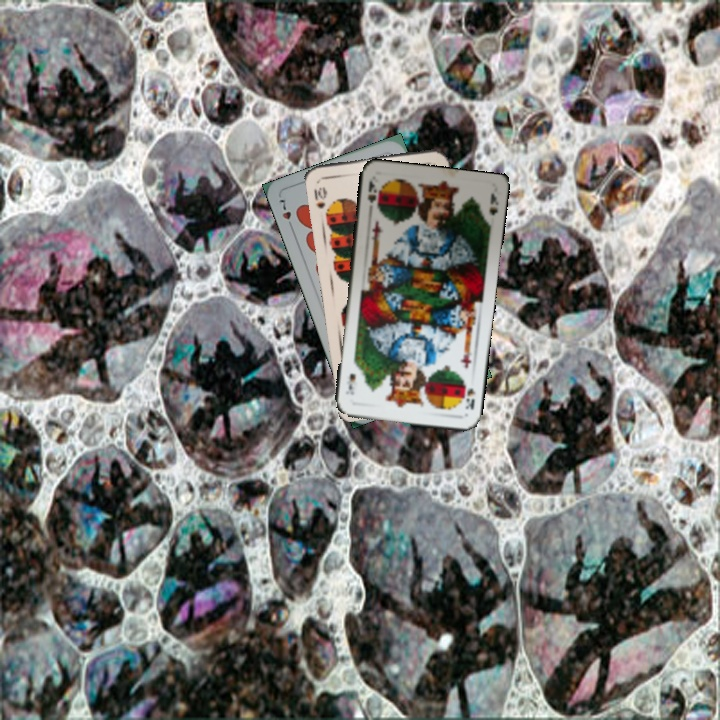H7: (275, 195, 296, 233)
S10: (310, 183, 329, 211)
SK: (363, 176, 382, 214), (462, 384, 478, 412)
